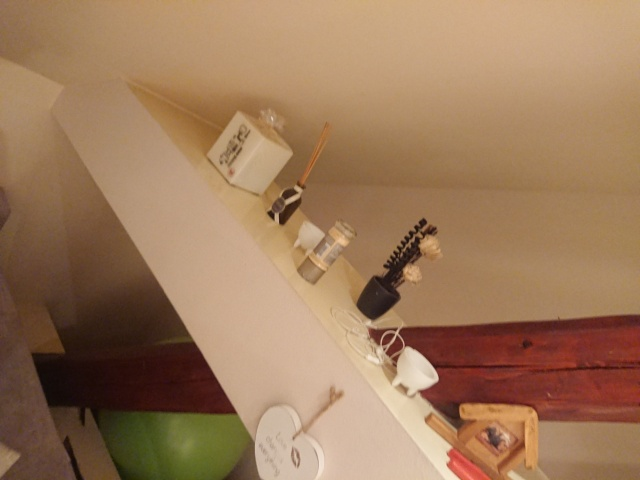Kotanyi Garlic Granules 70g: (295, 217, 359, 286)
